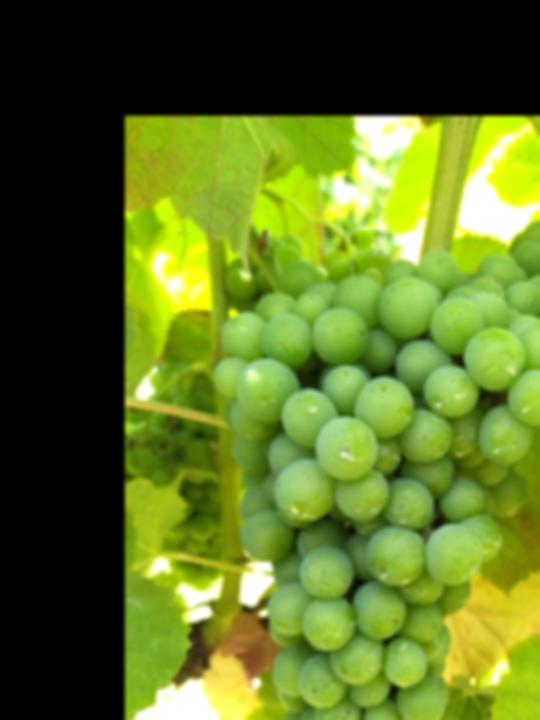grape: (215, 252, 540, 720)
